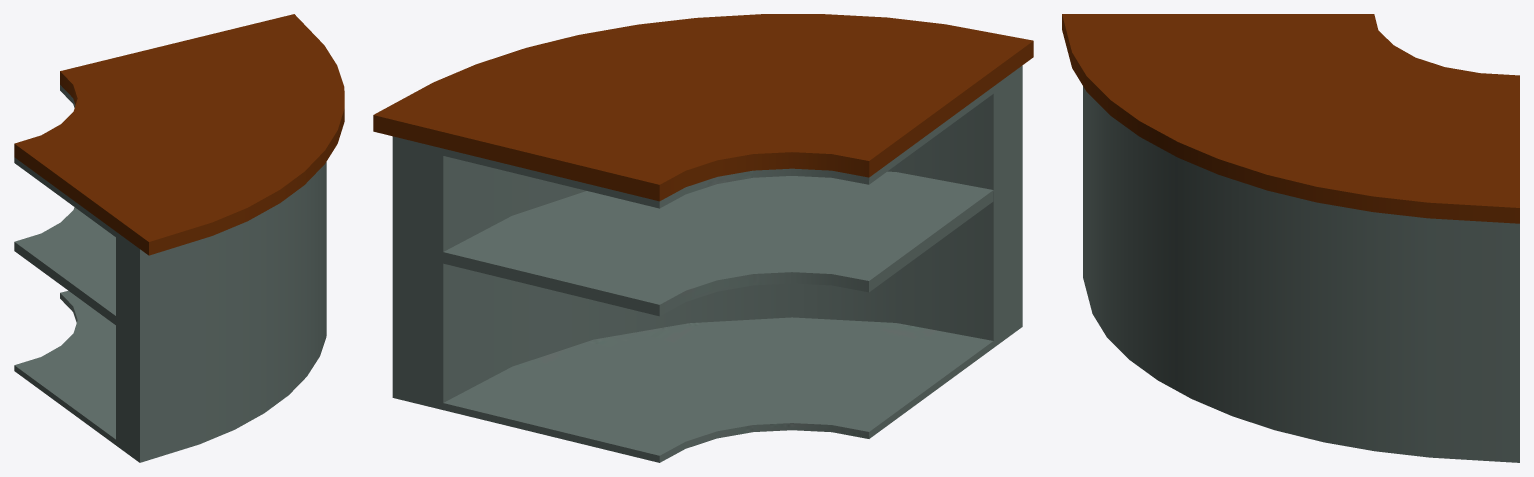
The model's file is SM_Counter_Curve_01.glb.
3 renders of one model, left to right at view 1: azimuth 30°, elevation 25°; view 2: azimuth 150°, elevation 25°; view 3: azimuth 270°, elevation 25°, orthographic. The views are drawn at different scales.
Visible parts, largest first — view 1: SM_Counter_Curve_01; view 2: SM_Counter_Curve_01; view 3: SM_Counter_Curve_01.
Boxes of the visible parts, box(x1,y1,x2,y2) form: SM_Counter_Curve_01: box(14, 14, 344, 462); SM_Counter_Curve_01: box(373, 14, 1033, 462); SM_Counter_Curve_01: box(1062, 14, 1519, 462).
Size of the model in its own units: 1.58 by 1 by 1.57.
2 materials, 1 textured.
